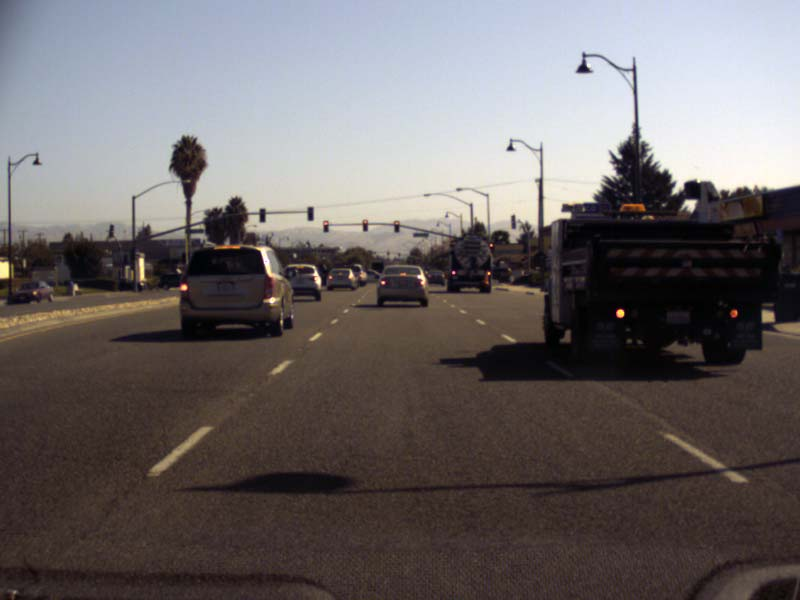Red: (393, 220, 399, 232), (322, 220, 328, 231), (362, 219, 367, 231), (488, 242, 493, 254)
